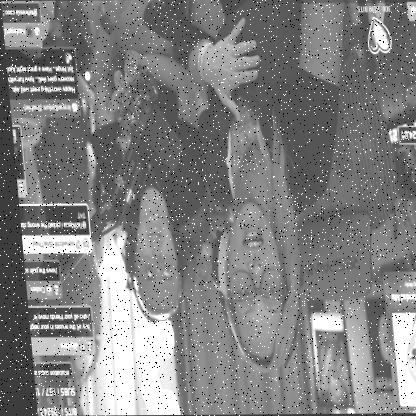streamer: (182, 0, 373, 373), (75, 0, 212, 324)
